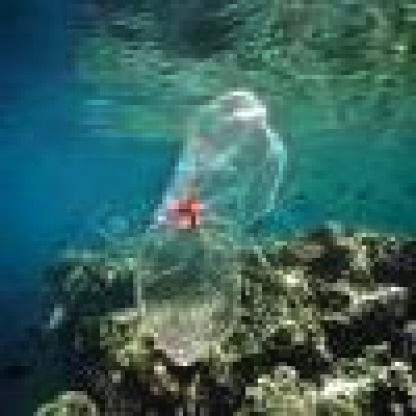pbag: (129, 87, 291, 366)
